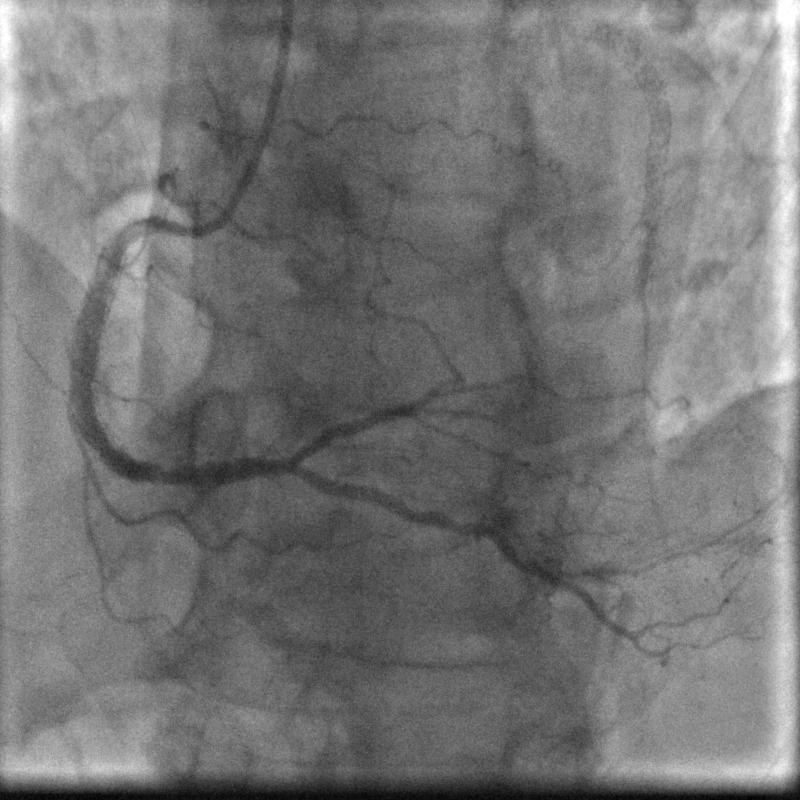Stenosis: (116, 203, 172, 244)
